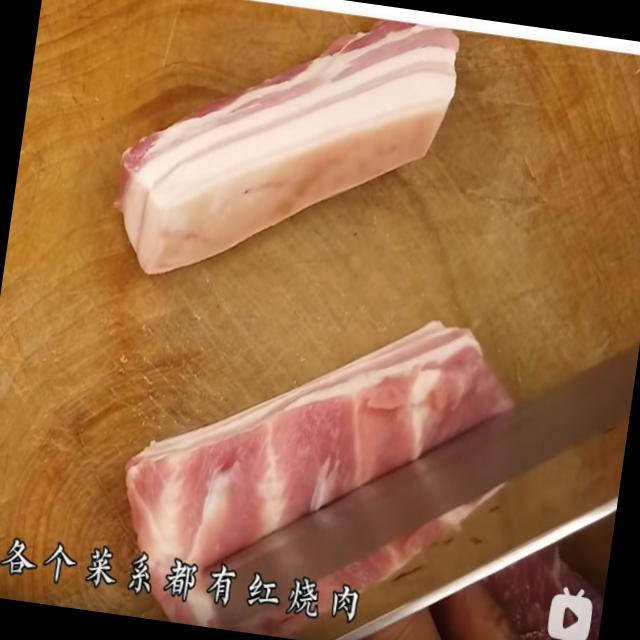pork: (81, 276, 500, 556), (110, 0, 465, 313)
